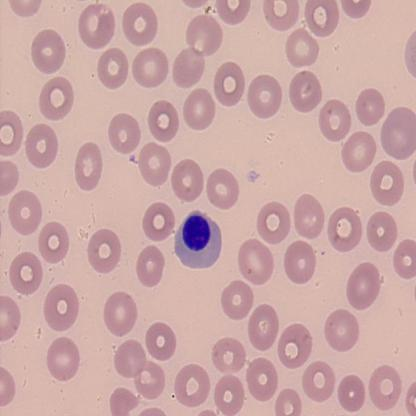NRC: (172, 209, 223, 269)
